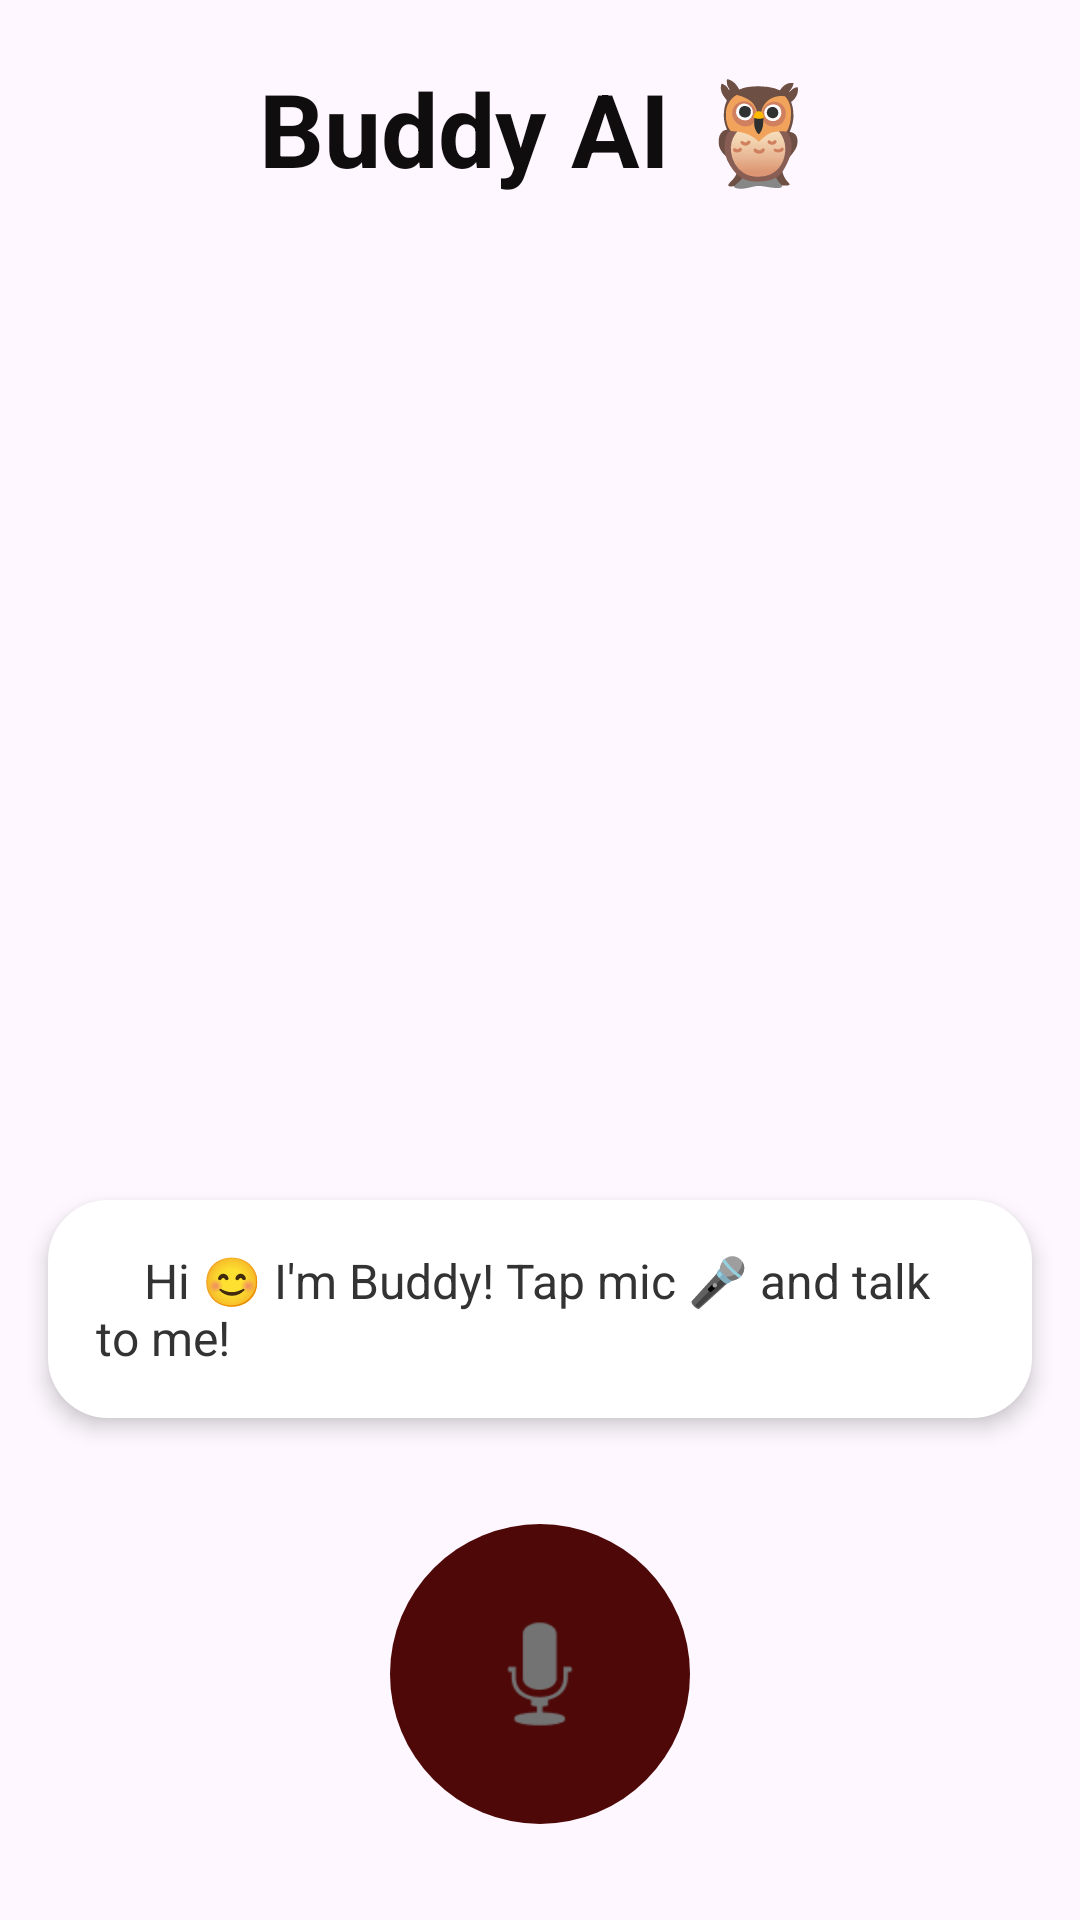

Icon bounding boxes for this 1080w x 1920h phone screenshot, format (x1, y1, x2, y2):
speak now: (390, 1524, 690, 1824)
